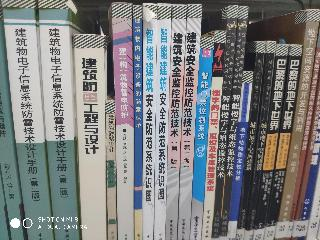book-spine: (2, 0, 53, 240), (276, 9, 320, 239), (39, 0, 79, 240), (263, 44, 302, 240), (252, 44, 288, 240), (218, 6, 248, 240), (75, 34, 109, 239), (210, 6, 237, 240), (244, 42, 275, 240), (176, 4, 201, 240), (236, 41, 264, 239), (200, 31, 225, 240), (164, 4, 186, 240), (189, 38, 213, 239), (113, 3, 133, 239), (153, 5, 171, 239), (228, 71, 252, 240), (141, 4, 155, 240), (134, 6, 142, 240), (106, 101, 117, 239)
